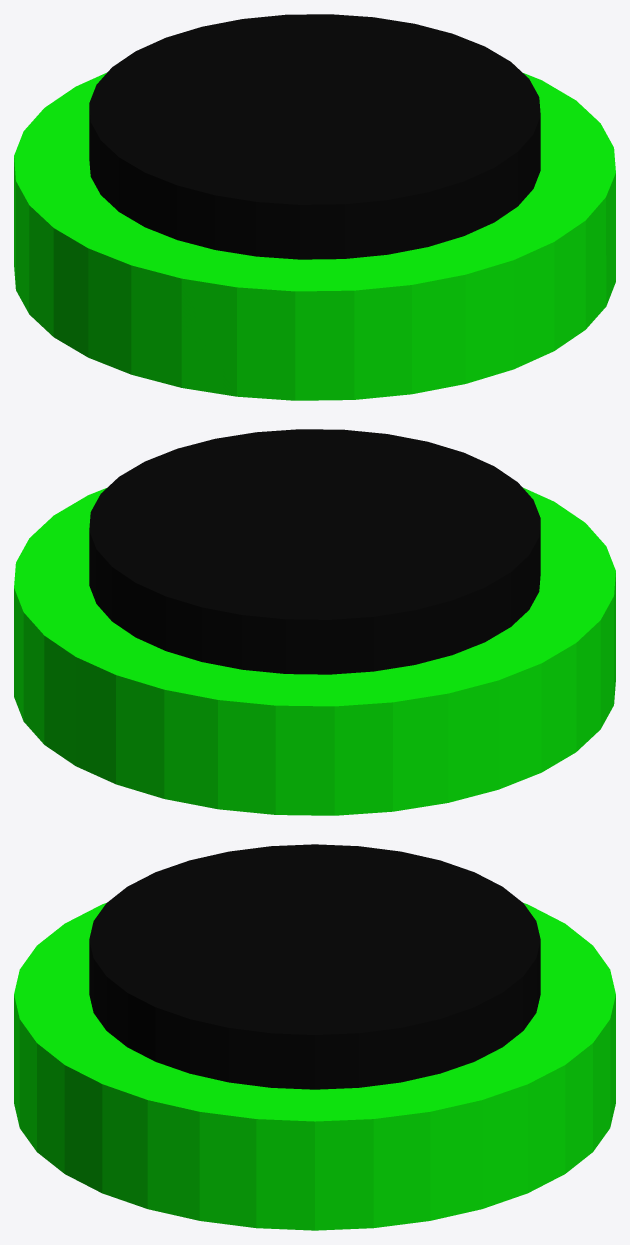
File: GreenNote.obj
3 renders of one model, top to bottom at view 1: azimuth 30°, elevation 25°; view 2: azimuth 150°, elevation 25°; view 3: azimuth 270°, elevation 25°, orthographic.
Parts seen in each view (by area): view 1: Base, Top; view 2: Base, Top; view 3: Base, Top.
Part boxes in pixels (bbox=[...]): Base: bbox=[14, 72, 615, 400]; Top: bbox=[89, 14, 540, 259]; Base: bbox=[14, 487, 615, 815]; Top: bbox=[89, 429, 540, 674]; Base: bbox=[14, 903, 615, 1230]; Top: bbox=[89, 844, 540, 1089].
Size of the model in its own units: 2 by 0.6 by 2.
